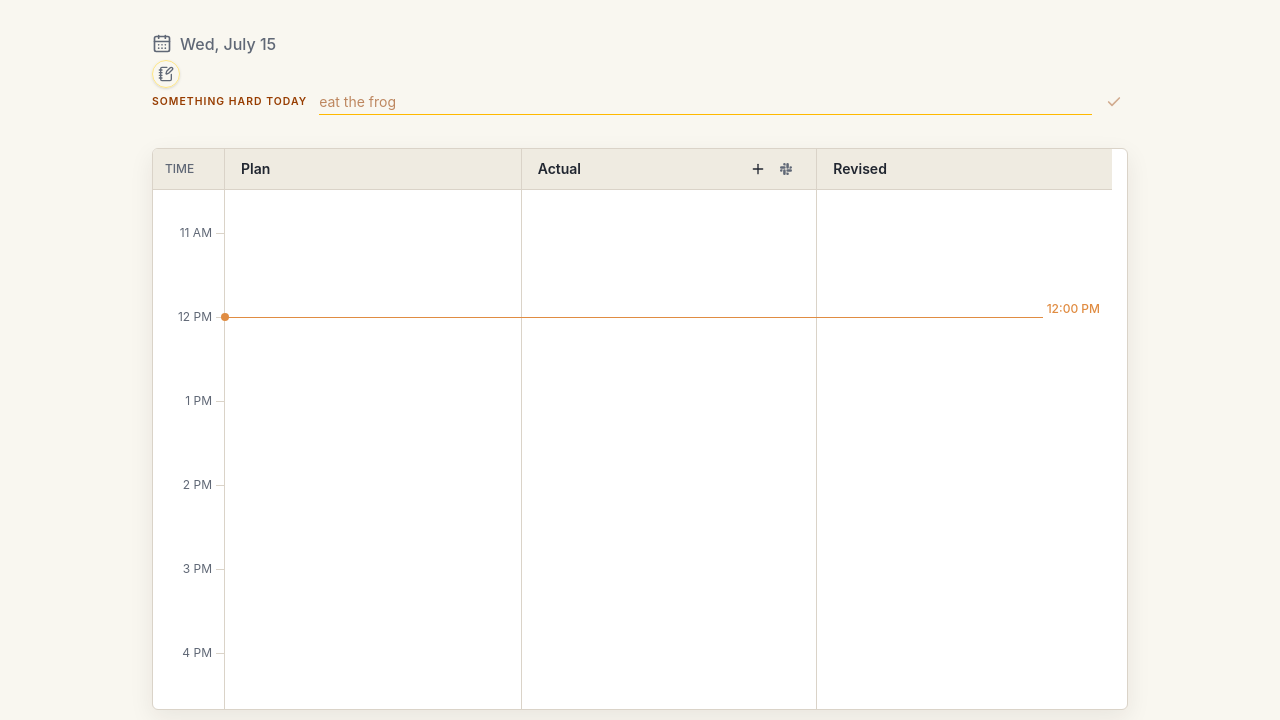
it: App Slack intention › logs a normal Slack-marked Actual and launches from the submit click
(page scrolled)
Click the button named "Log Slack time" at (786, 169), box [772,155,800,183]
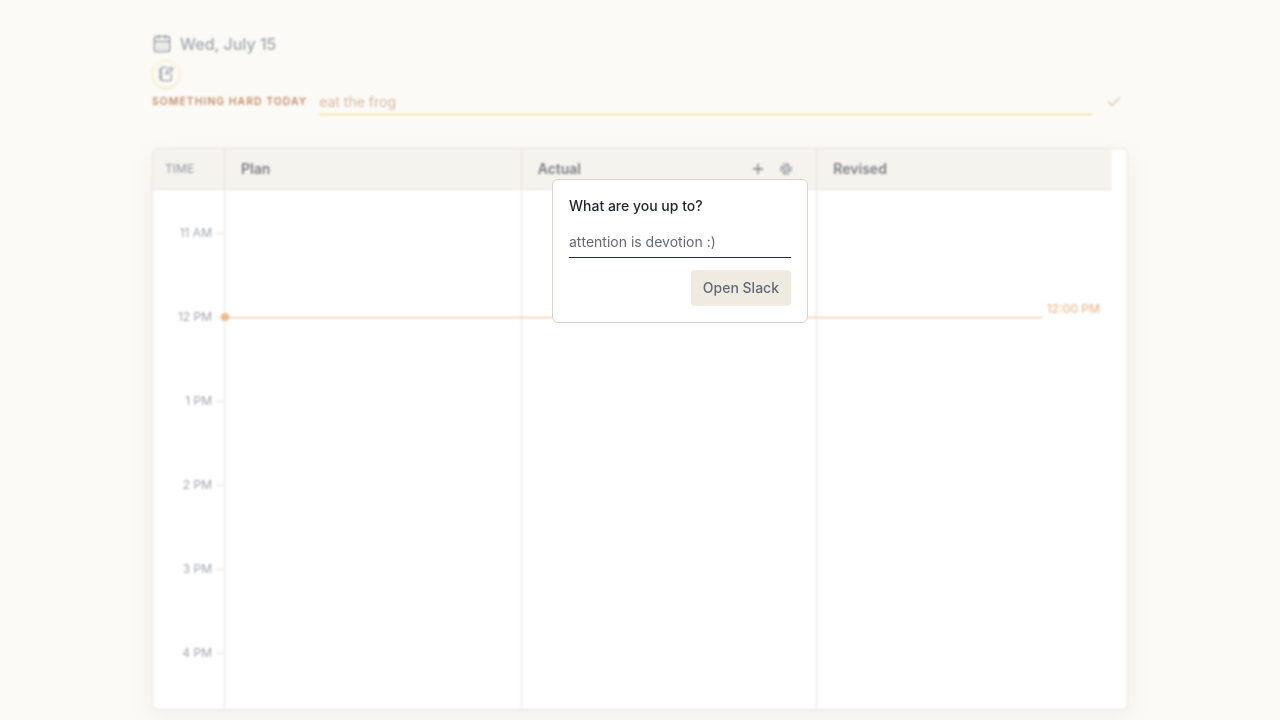
Check: the text "What are you up to?" is shown, box [569,197,703,214]
Type "  Check release channel  " into the field with placeholder "attention is devotion :)" at (680, 242), box [569,226,791,258]
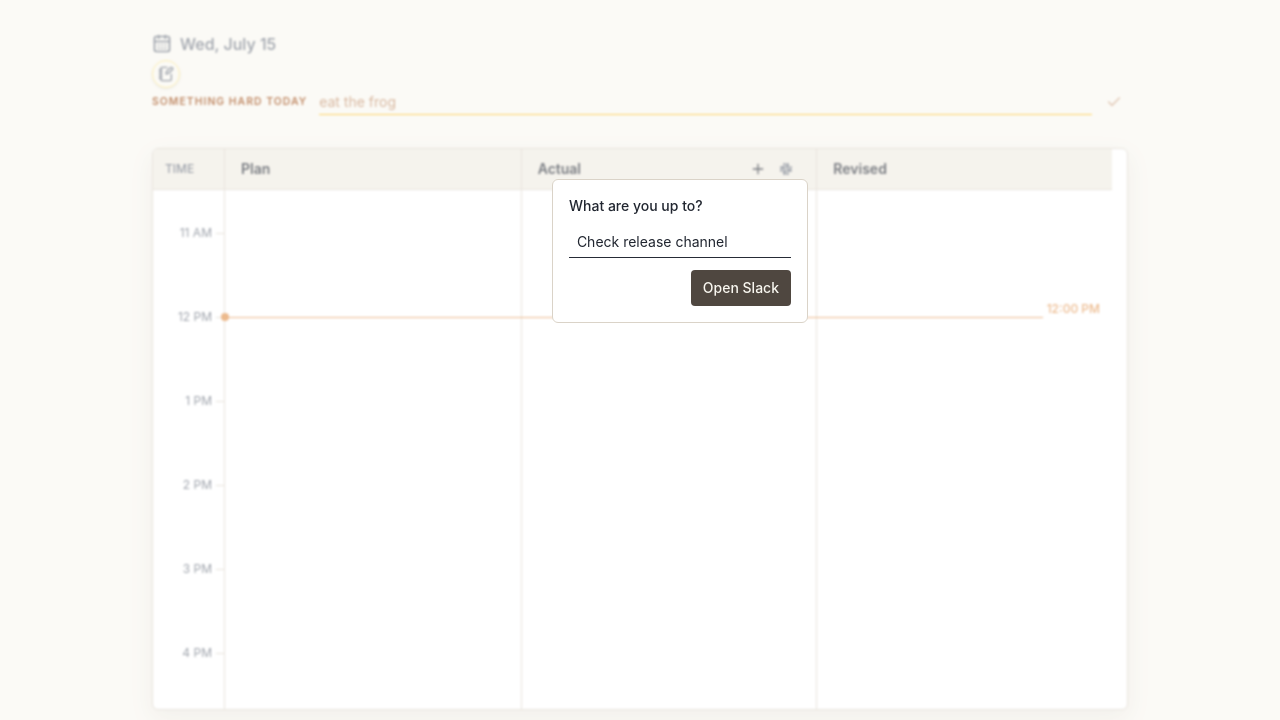
Click the button "Open Slack" at (741, 288), box [691,270,791,306]
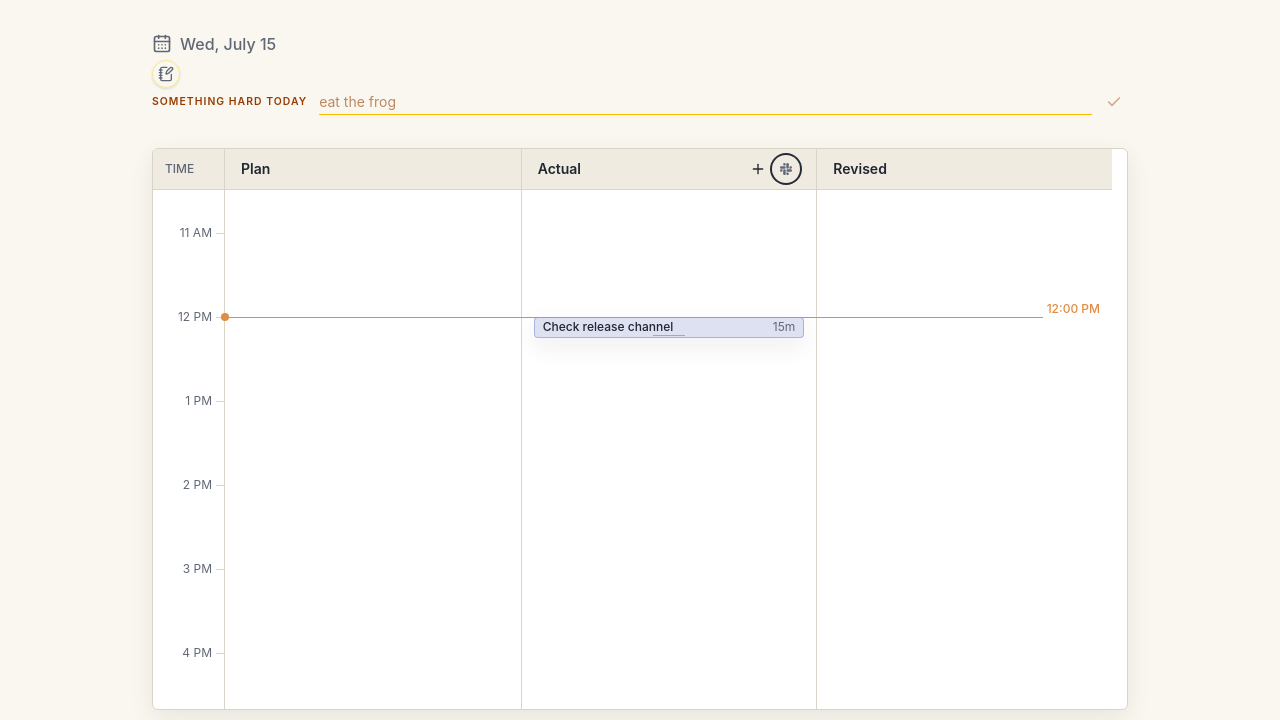
Check: the element with test id "actual-block" shows "Check release channel", box [535,318,803,337]
Check: the element with test id "actual-block" shows "15m", box [535,318,803,337]
